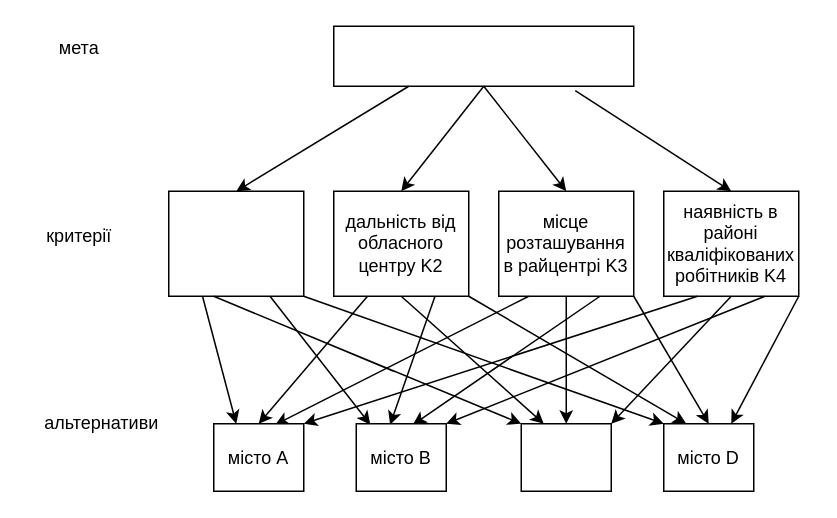
Image size: 837x518. Some labels were removed from this diagram. The centre of each missing label's shape, as x and y in pixels:
"вартість K1" belongs at pixel 235 243.
"вибір локації дочірнього підприємства" belongs at pixel 483 55.
"місто C" belongs at pixel 565 456.
